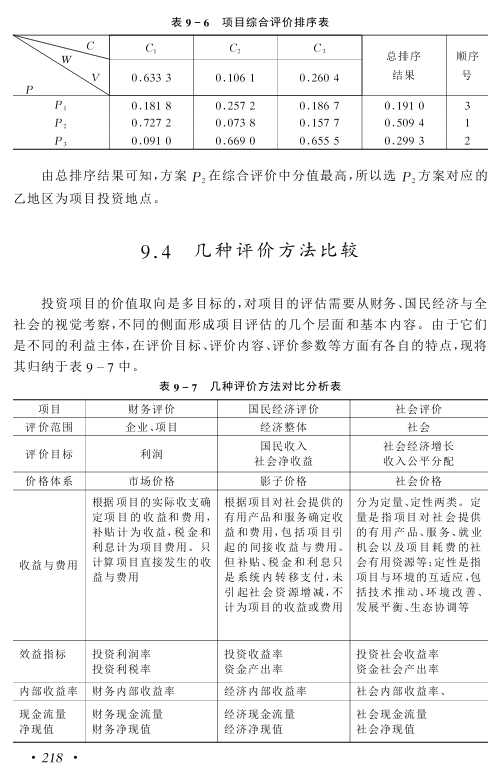table: (12, 399, 488, 743), (12, 33, 487, 150)
